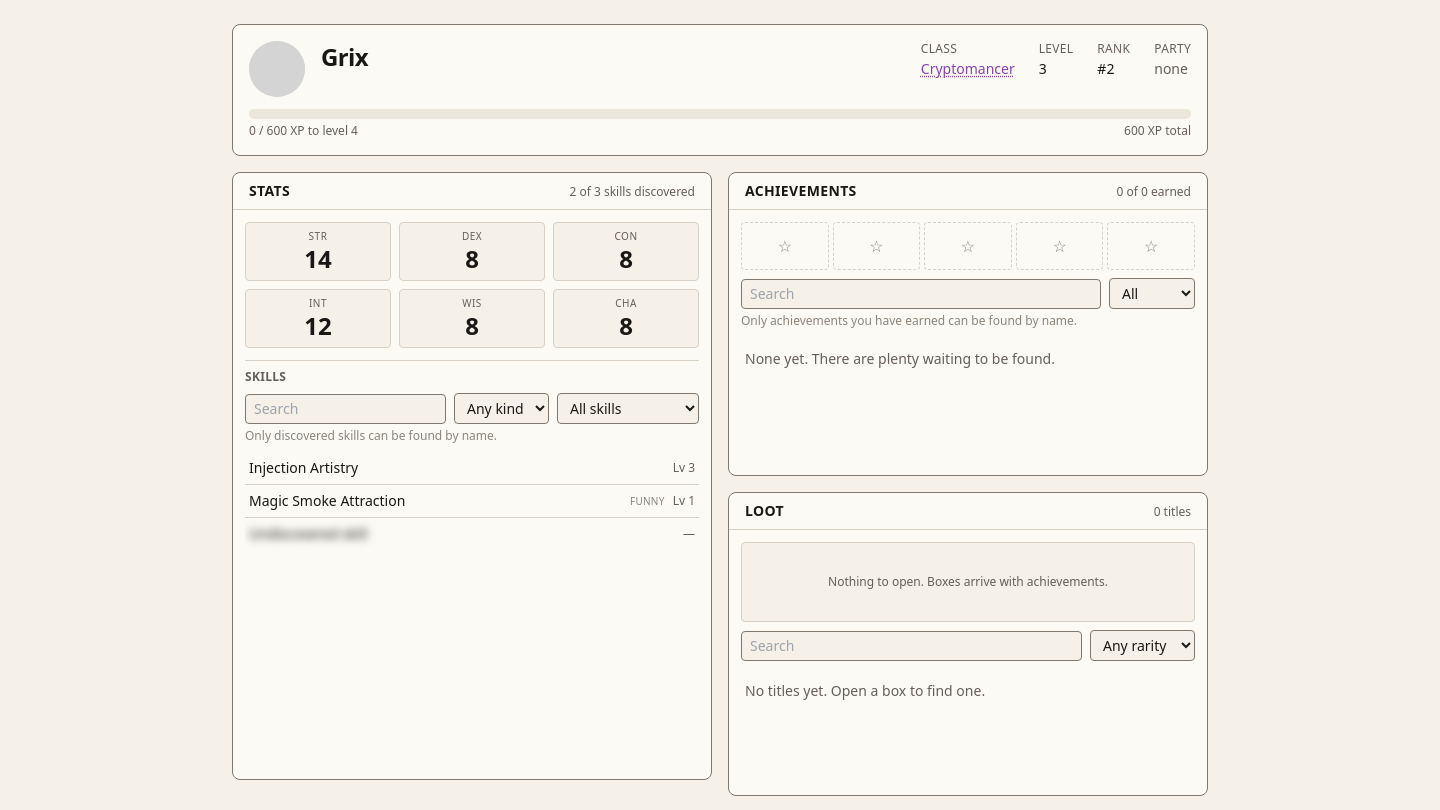
choosing a class › names the class rarity as text, not only as colour
Step 1. Click the button "Cryptomancer" → (968, 69), box [921,59,1015,79]
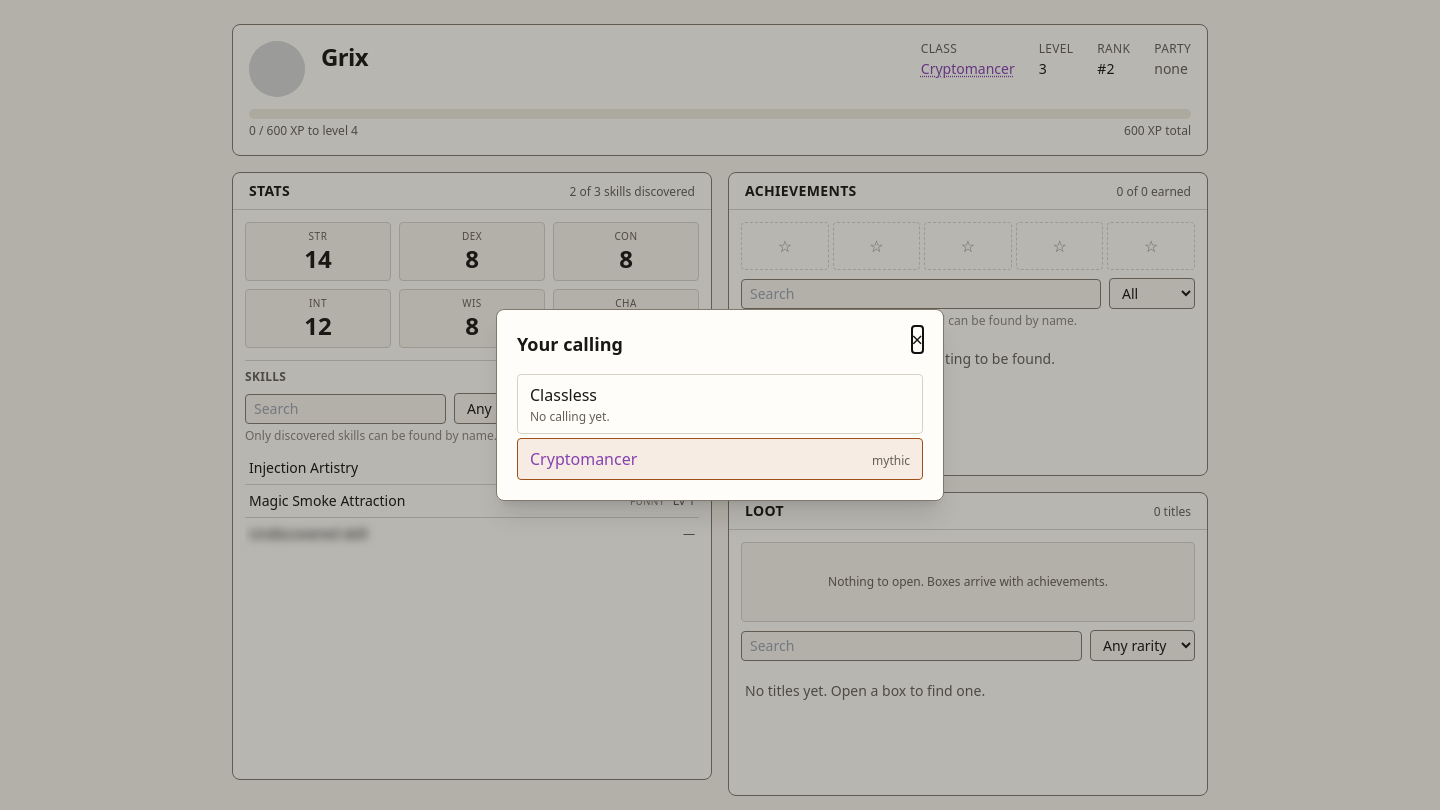
expect the text "mythic" is shown: met, box [872,453,910,469]
